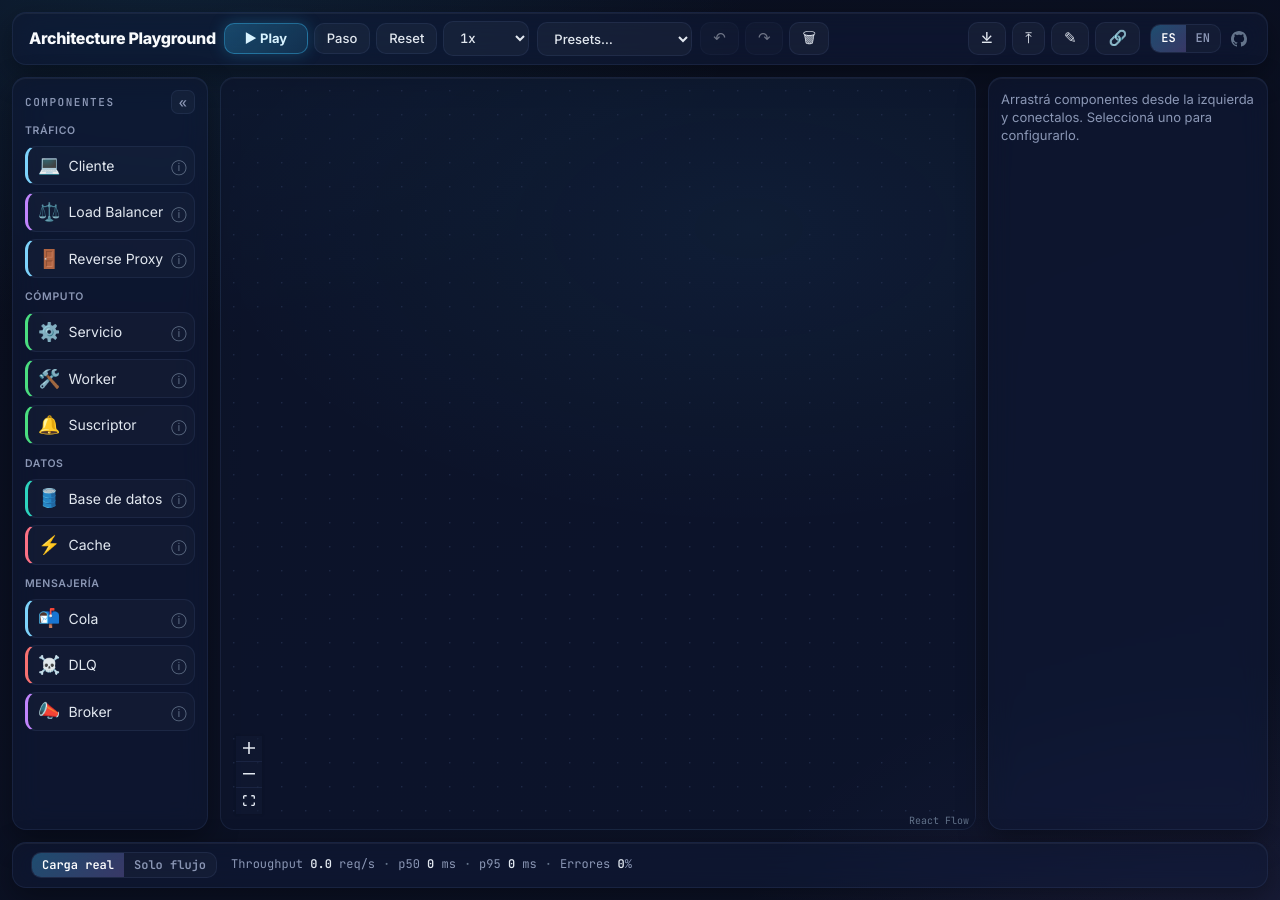
Test case: language switch › ES | EN re-renders the whole UI in the chosen language
This screenshot has width=1280, height=900.
Expected: the heading "Componentes" is shown, [25,96,114,108]
Expected: the text "Arrastrá componentes desde la izquierda" is shown, [1001,91,1254,143]
Click the button "EN".
click(1203, 38)  # box [1186,25,1220,52]
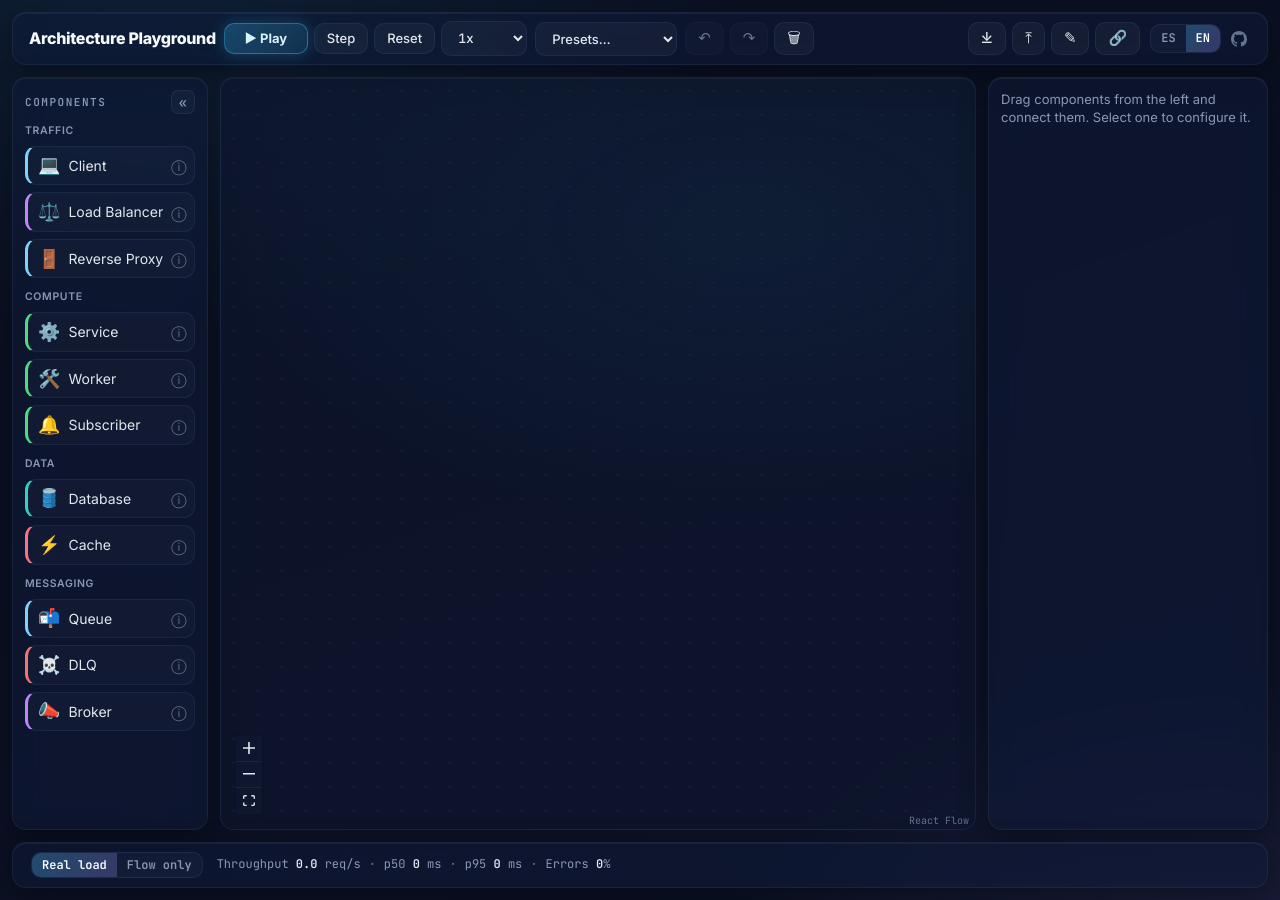
Expected: the heading "Components" is shown, [25,96,106,108]
Expected: the text "Drag components from the left and connect them. Select one to configure it." is shown, [1001,90,1255,126]
Expected: the text "Errors 0%" is shown, [546,857,610,873]
Click the button "ES".
click(1168, 38)  # box [1151,25,1186,52]
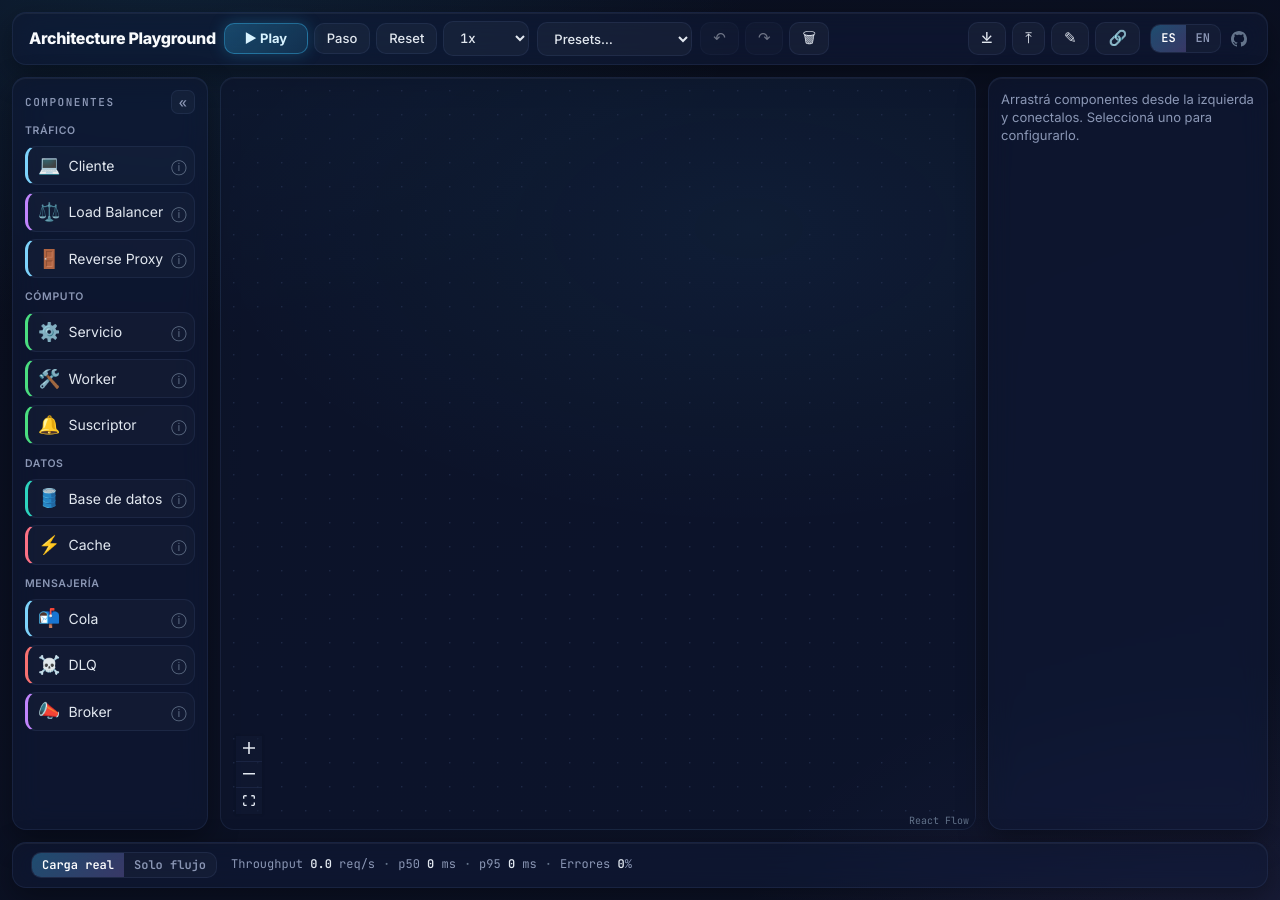
Expected: the heading "Componentes" is shown, [25,96,114,108]
Expected: the navigation bar shows "Cliente", [68,157,114,174]
Expected: the text "Arrastrá componentes desde la izquierda" is shown, [1001,91,1254,143]
